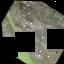Morning glory: (0, 0, 64, 58)
